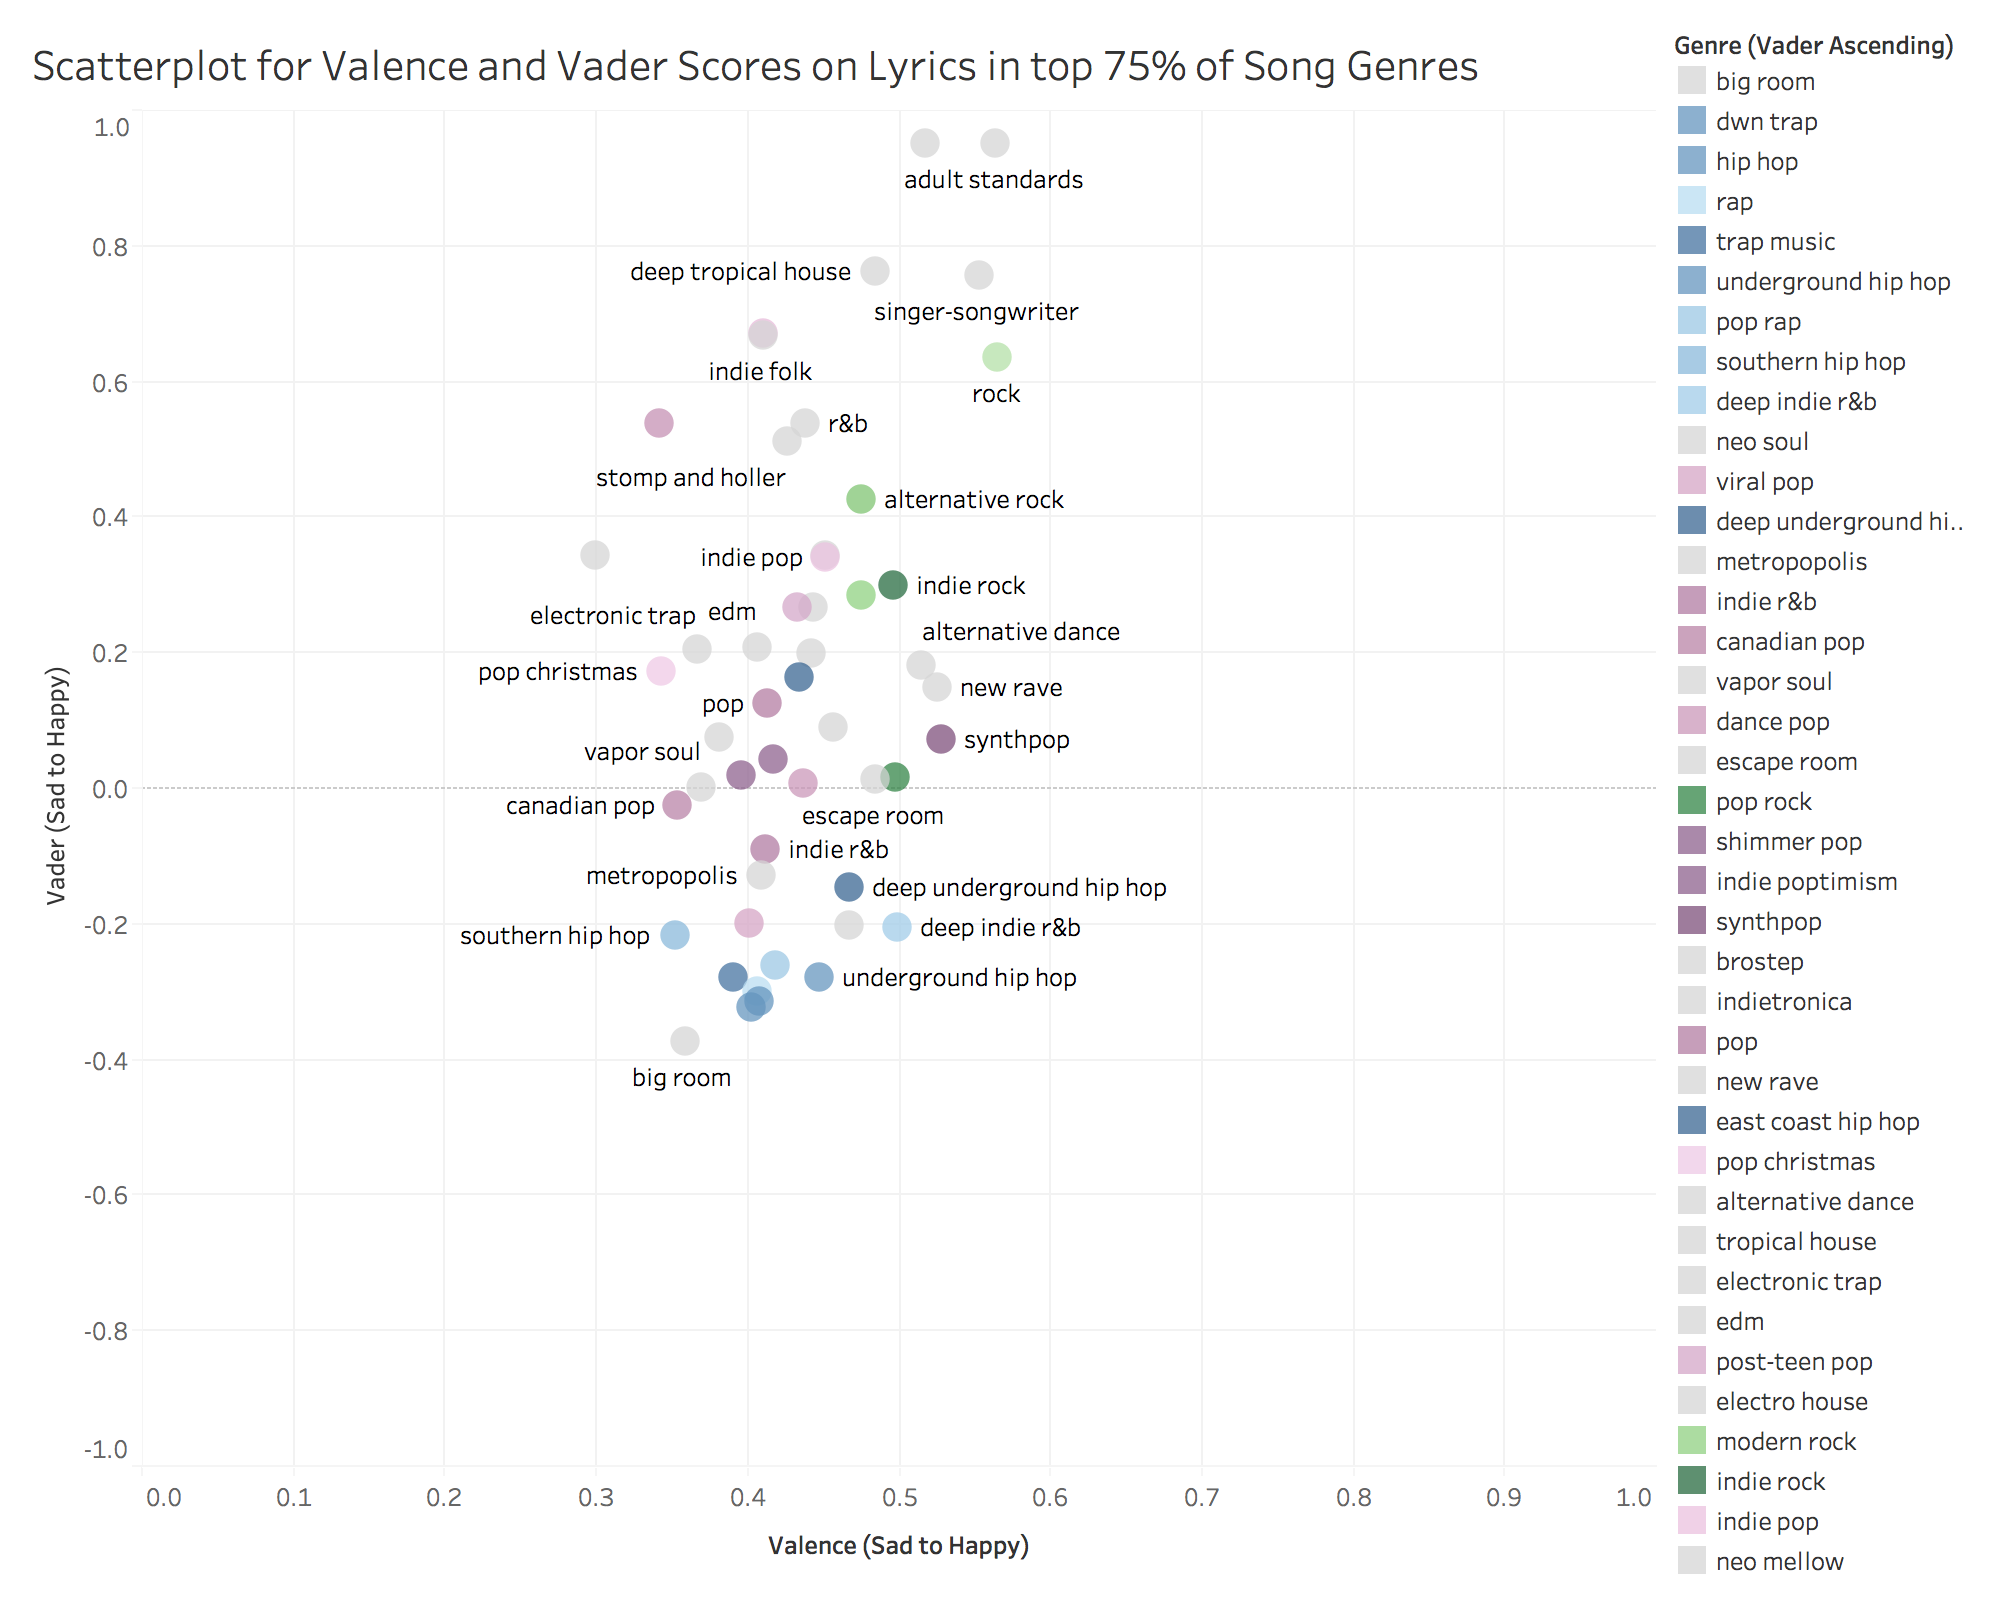

The page's visual inventory and layout, read from the dashboard file:
{"tool":"tableau","page":{"name":"Dashboard 2","canvas":[1000,800],"ordinal":1},"visuals":[{"type":"worksheet","title":"Sheet 2","mark":"Shape","rows":["vader(75)"],"cols":["valence (75)"],"box":[8,8,824,784]},{"type":"legend","title":"Sheet 2","param":"[federated.1ey1xjc0mpeoza18zu88k1hcjlk8].[none:genre(75%):nk]","box":[832,8,160,784]}]}

Visuals, with their boxes in screenshot pixels (x1, y1, x2, y2), scaled from the page's 1000x800 canvas onto the 2000x1600 screenshot:
"Sheet 2" worksheet (Shape marks): [left=16, top=16, right=1664, bottom=1584]
"Sheet 2" legend: [left=1664, top=16, right=1984, bottom=1584]
